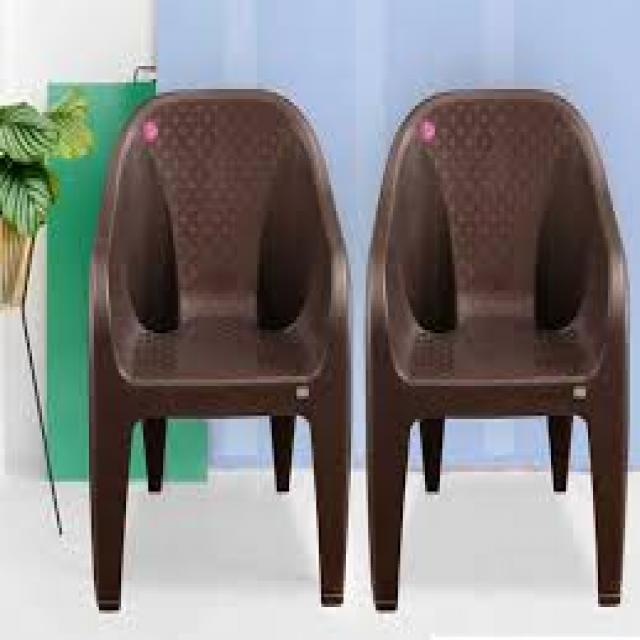chair: (362, 85, 634, 615), (88, 88, 348, 616)
